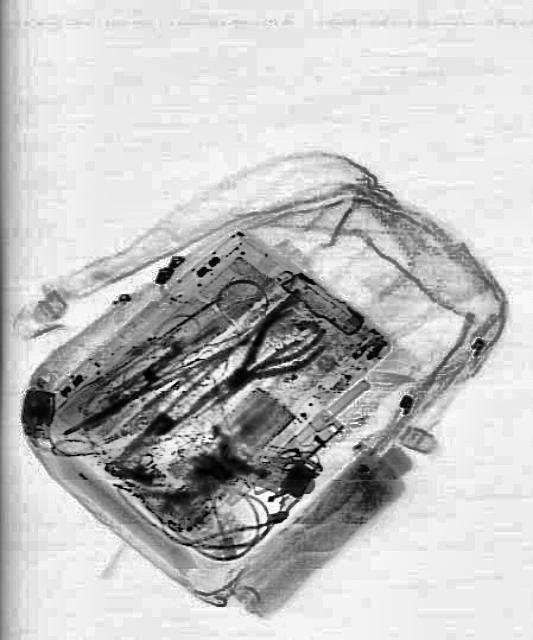Pliers: (154, 293, 326, 453), (179, 288, 327, 434)
